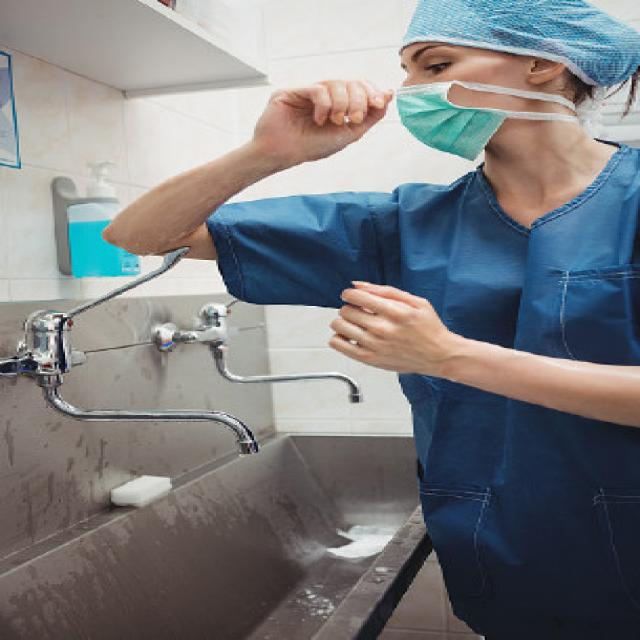mask: (394, 27, 526, 155)
